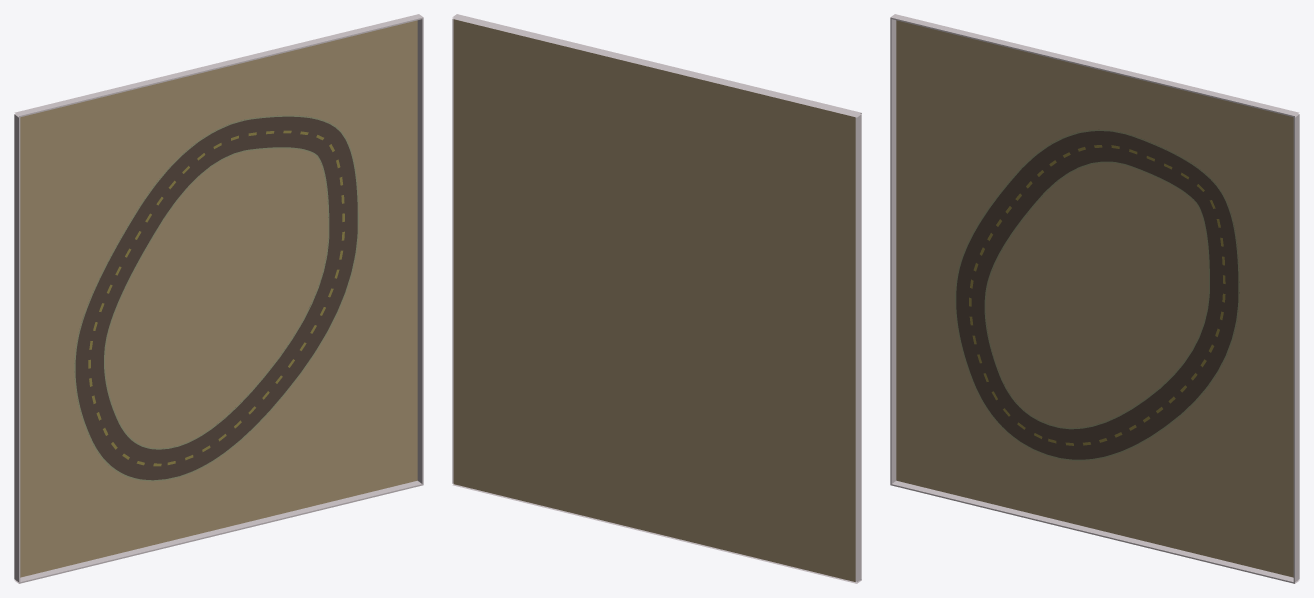
The model's file is track.obj.
3 renders of one model, left to right at view 1: azimuth 30°, elevation 25°; view 2: azimuth 150°, elevation 25°; view 3: azimuth 330°, elevation 25°, orthographic.
Size of the model in its own units: 14.88 by 16.44 by 0.3.
Materials: 5 (5 with a texture image).
